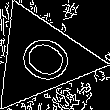O_SE: (4, 26, 77, 91)
